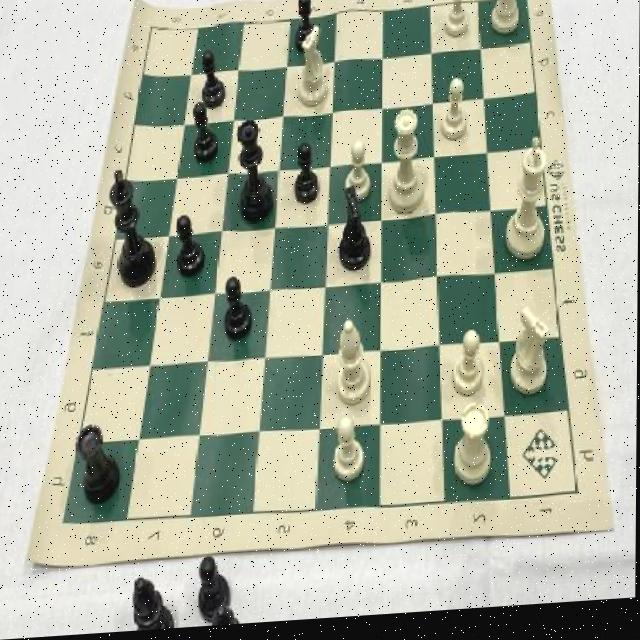black-bishop: (106, 161, 161, 297)
black-king: (334, 188, 379, 281)
black-knight: (219, 281, 255, 355), (172, 217, 209, 283), (189, 104, 225, 170), (198, 46, 229, 115), (292, 143, 322, 214), (291, 0, 324, 57)
black-pawn: (234, 115, 278, 232)
black-queen: (74, 412, 124, 512)
black-rook: (331, 319, 375, 415)
white-bishop: (503, 140, 555, 272)
white-king: (506, 309, 557, 407), (295, 24, 332, 120)
white-knight: (328, 411, 368, 491), (451, 331, 489, 407), (341, 139, 376, 210), (437, 84, 472, 150), (441, 0, 472, 47)
white-pawn: (385, 104, 429, 227)
white-queen: (449, 405, 498, 496), (488, 0, 530, 46)
